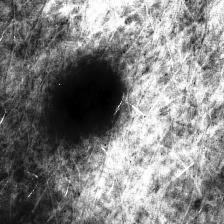Benign Marking or Mole: (55, 73, 116, 126)
